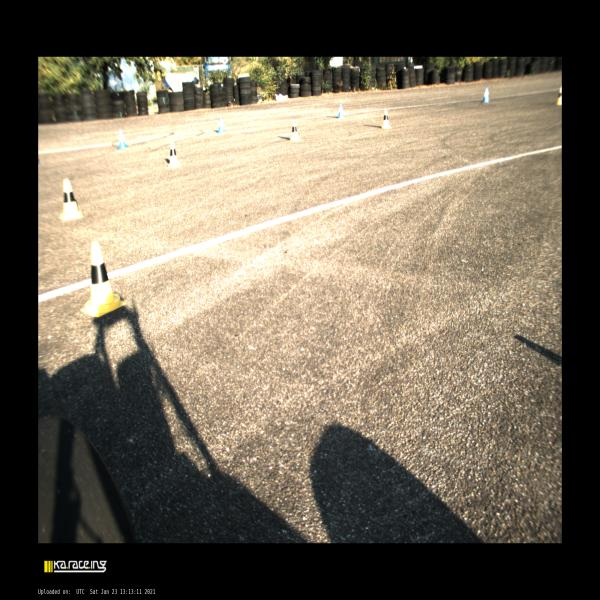blue_cone: (117, 129, 129, 150), (481, 87, 490, 103), (217, 116, 225, 133), (337, 103, 345, 119)
yellow_cone: (80, 241, 127, 318), (58, 178, 84, 222), (167, 140, 181, 168), (380, 109, 392, 130), (290, 120, 300, 142), (556, 87, 562, 106)
